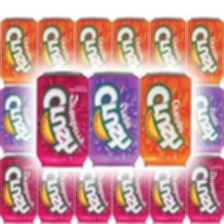can: (136, 69, 194, 172), (33, 68, 90, 171), (86, 69, 138, 168), (186, 14, 224, 87), (0, 85, 39, 154), (0, 152, 37, 223), (0, 15, 37, 86), (186, 155, 223, 223), (188, 86, 223, 152), (37, 12, 76, 71), (111, 16, 149, 75), (148, 15, 186, 73), (35, 167, 74, 223), (73, 165, 110, 224), (75, 14, 111, 70), (111, 169, 148, 223), (149, 170, 186, 223)
